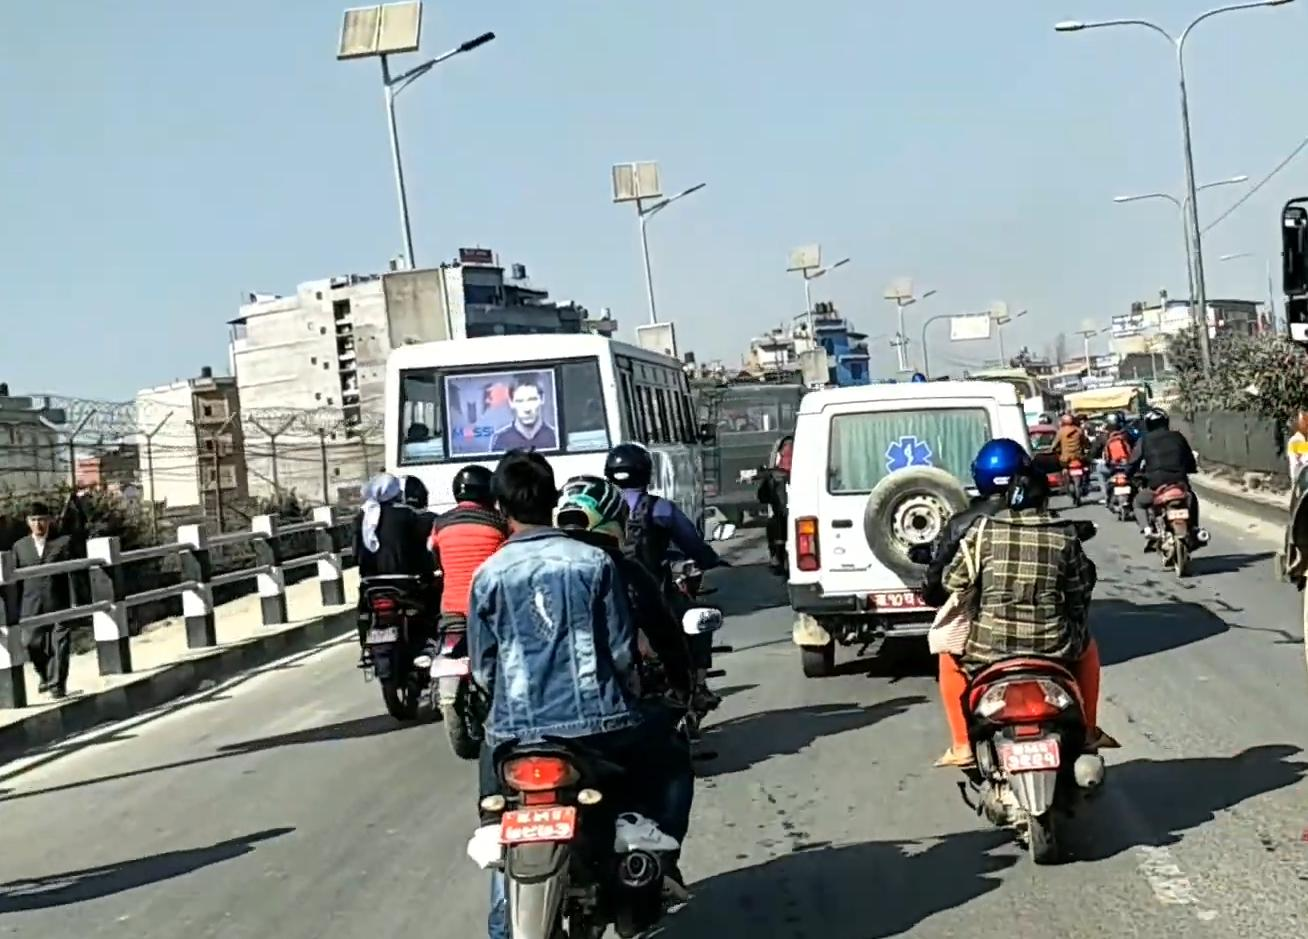ambulance: (781, 379, 1042, 685)
scooter: (960, 650, 1112, 875)
